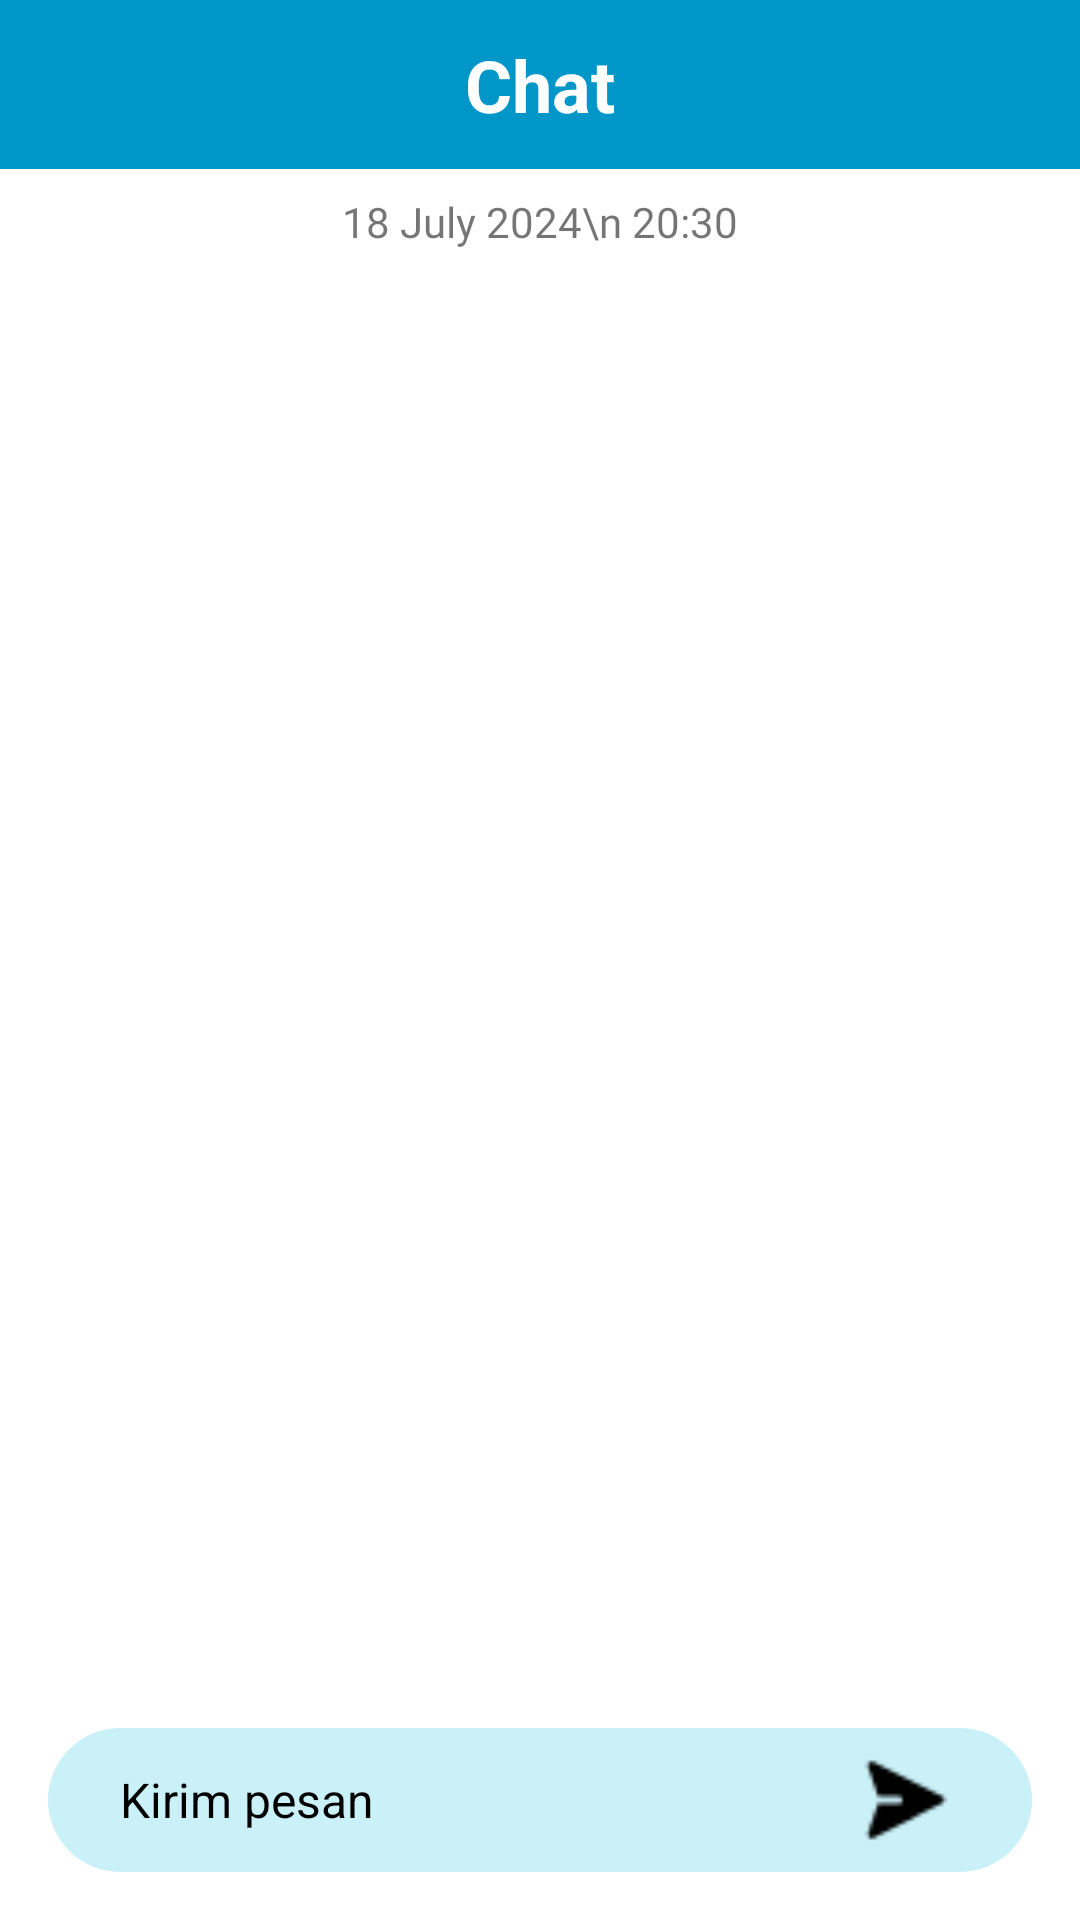

Icon bounding boxes for this 1080 × 1920 phone screenshot, format (x1, y1, x2, y2):
majesticons send: (865, 1760, 947, 1840)
